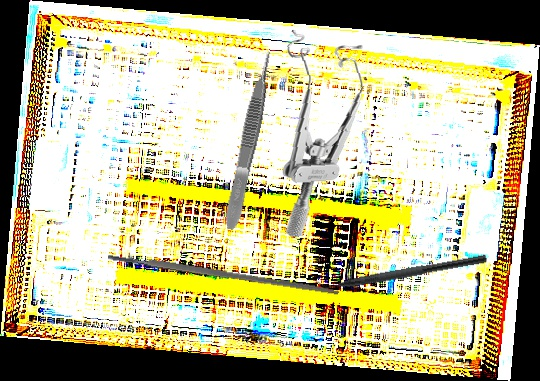Chopper: (308, 242, 488, 297)
Scalpel Handle: (107, 250, 340, 298)
Speculum: (272, 25, 376, 238)
Tissue Forceps: (220, 49, 280, 232)
